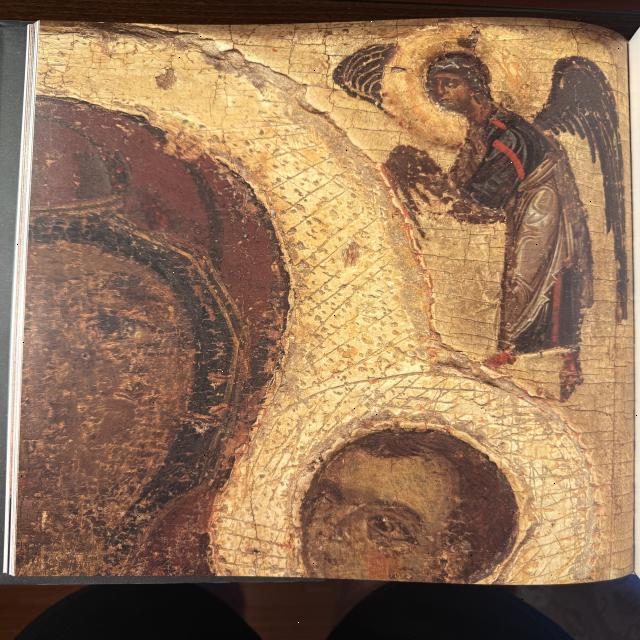angel: (330, 35, 640, 384)
aura: (382, 31, 538, 134)
wing: (531, 53, 635, 323), (324, 42, 397, 112)
